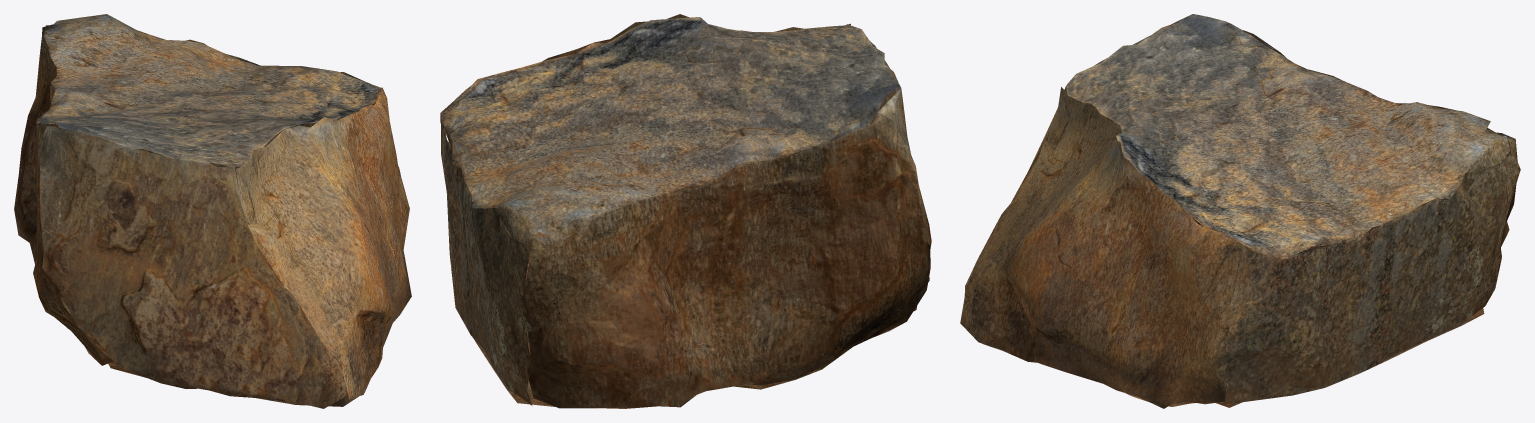
Rendered from namaqualand_boulder_03.glb.
3 views of the same model, side by side, from view 1: azimuth 30°, elevation 25°; view 2: azimuth 150°, elevation 25°; view 3: azimuth 270°, elevation 25° (orthographic). The views are drawn at different scales.
Parts seen in each view (by area): view 1: namaqualand_boulder_03; view 2: namaqualand_boulder_03; view 3: namaqualand_boulder_03.
Part boxes in pixels (bbox=[...]): namaqualand_boulder_03: bbox=[14, 14, 411, 408]; namaqualand_boulder_03: bbox=[440, 14, 931, 408]; namaqualand_boulder_03: bbox=[960, 14, 1520, 408].
Size of the model in its own units: 2.41 by 1.47 by 3.08.
1 material, 1 textured.
